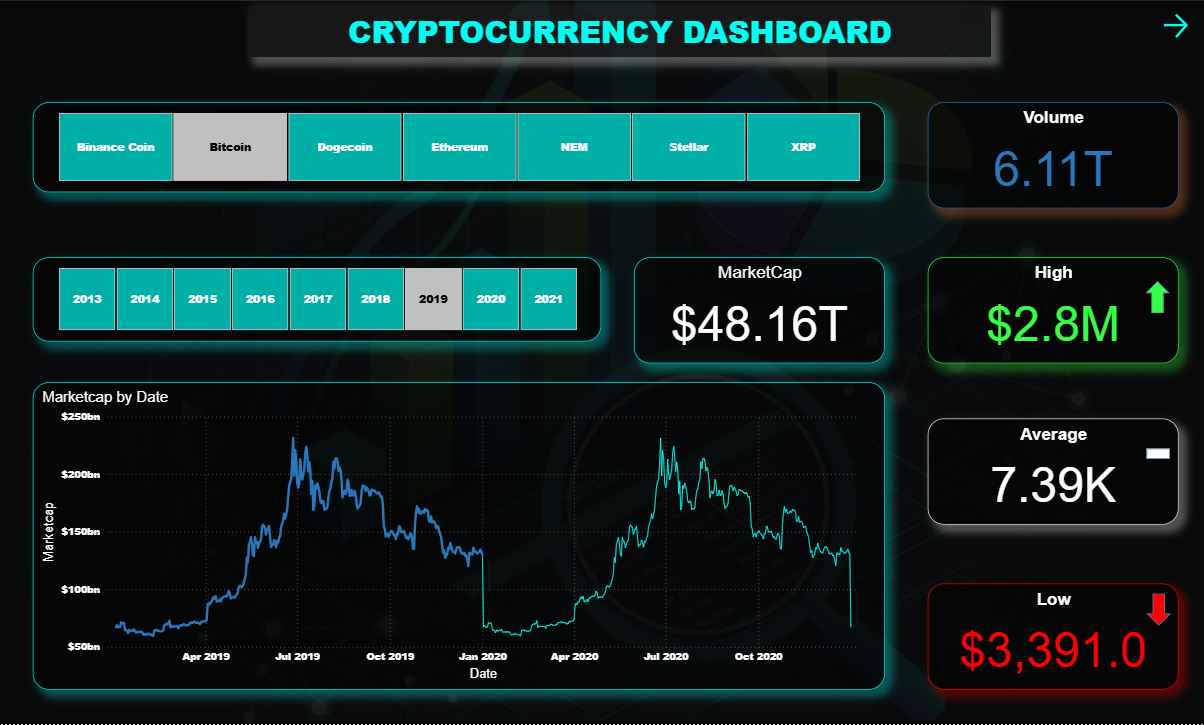

Layout of this report page (visuals, bound fields, positions):
{"tool":"powerbi","page":{"name":"Page 1","canvas":[1500,900],"ordinal":0},"visuals":[{"type":"slicer","fields":{"Values":["CryptoData_CSV.Name"]},"box":[41.4,125.8,1059.8,112],"z":0},{"type":"slicer","fields":{"Values":["CryptoData_CSV.Year"]},"box":[41.8,318.4,707.5,104.5],"z":1000},{"type":"lineChart","fields":{"Y":["Sum(CryptoData_CSV.Marketcap)"],"Category":["CryptoData_CSV.Date"]},"box":[41.8,474.4,1059.7,382.7],"z":2000},{"type":"actionButton","box":[1442.4,11.3,46.6,40.2],"z":3000},{"type":"textbox","box":[310.4,6.4,923,64.3],"z":4000},{"type":"card","title":"MarketCap","fields":{"Values":["Sum(CryptoData_CSV.Marketcap)"]},"box":[789.6,318.4,312,131.9],"z":5000},{"type":"card","title":"Volume","fields":{"Values":["Sum(CryptoData_CSV.Volume)"]},"box":[1154.6,125.4,312,131.9],"z":6000},{"type":"card","title":"High","fields":{"Values":["Sum(CryptoData_CSV.High)"]},"box":[1154.6,318.4,312,131.9],"z":7000},{"type":"card","title":"Average","fields":{"Values":["Avg(CryptoData_CSV.Average)"]},"box":[1154.6,519.4,312,131.9],"z":8000},{"type":"card","title":"Low","fields":{"Values":["Min(CryptoData_CSV.Low)"]},"box":[1154.6,725.2,312,131.9],"z":9000},{"type":"shape","box":[1426.4,349,30.6,40.2],"z":10000},{"type":"shape","box":[1428,736.5,30.6,40.2],"z":11000},{"type":"shape","box":[1428,556.4,28.9,12.9],"z":12000}]}

Visuals, with their boxes in screenshot pixels (x1, y1, x2, y2), scaled from the page's 1500x900 canvas onto the 1204x725 screenshot:
slicer - CryptoData_CSV.Name: <region>33, 101, 884, 192</region>
slicer - CryptoData_CSV.Year: <region>34, 256, 601, 341</region>
lineChart - Sum(CryptoData_CSV.Marketcap) x CryptoData_CSV.Date: <region>34, 382, 884, 690</region>
actionButton: <region>1158, 9, 1195, 41</region>
textbox: <region>249, 5, 990, 57</region>
"MarketCap" card: <region>634, 256, 884, 363</region>
"Volume" card: <region>927, 101, 1177, 207</region>
"High" card: <region>927, 256, 1177, 363</region>
"Average" card: <region>927, 418, 1177, 525</region>
"Low" card: <region>927, 584, 1177, 690</region>
shape: <region>1145, 281, 1169, 314</region>
shape: <region>1146, 593, 1171, 626</region>
shape: <region>1146, 448, 1169, 459</region>
